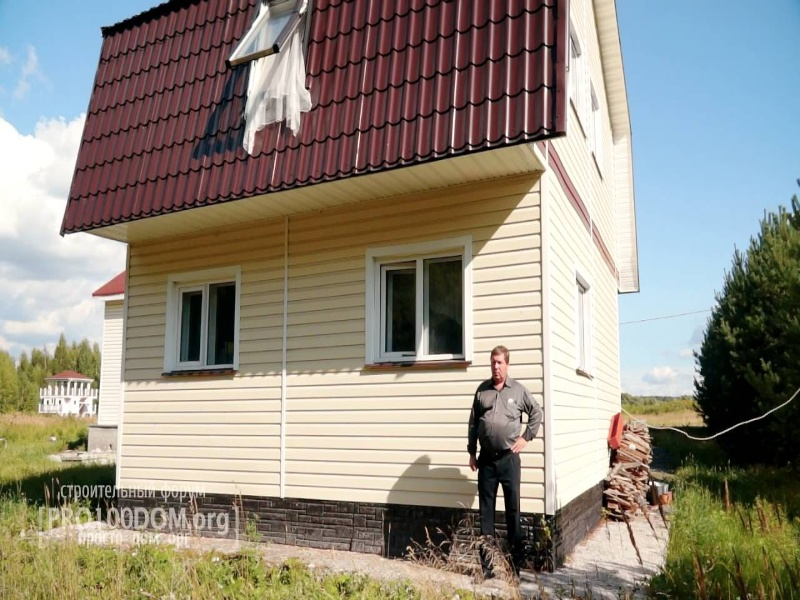window: (365, 242, 471, 368), (172, 277, 239, 368)
